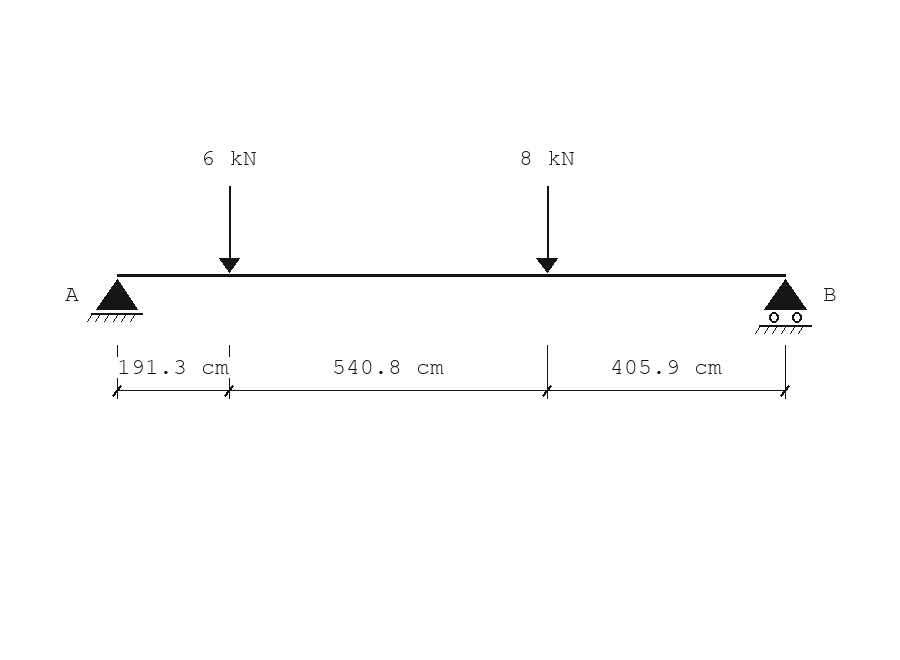pin_support: (87, 279, 143, 322)
point_load: (536, 186, 558, 273), (219, 186, 240, 273)
roller_support: (755, 279, 812, 334)
